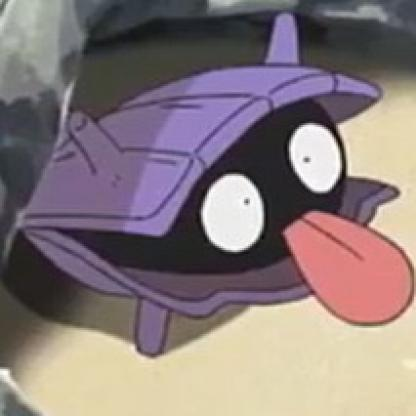Shellder: (36, 15, 416, 356)
